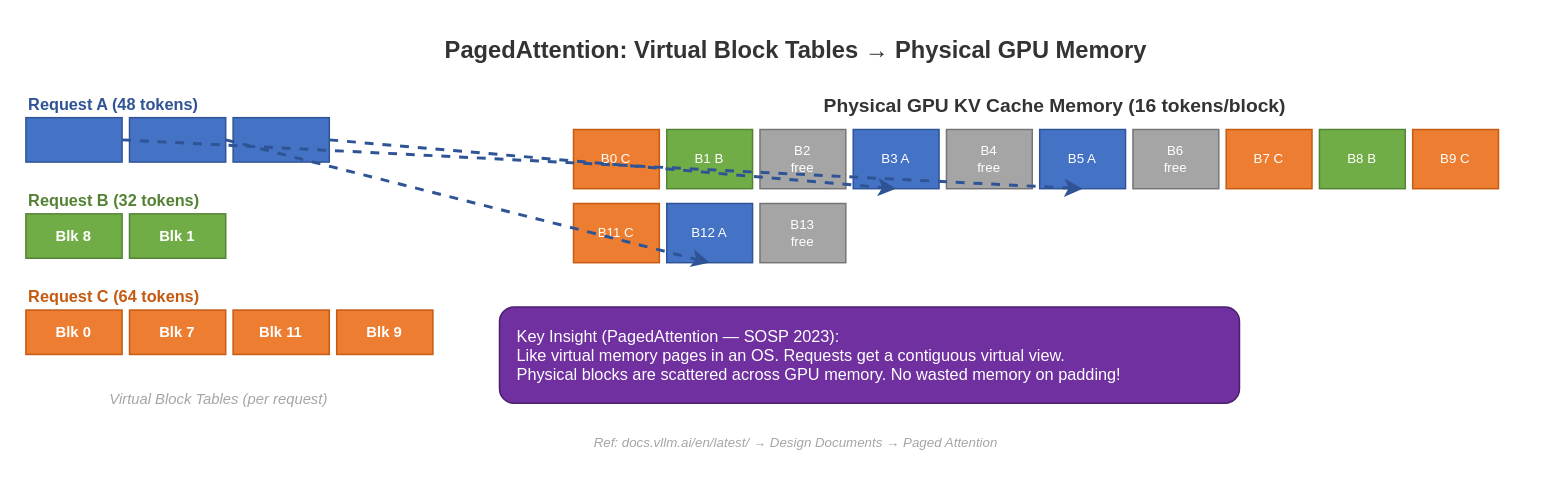
The diagram is 1561 pixels wide and 477 high, and some of its shapes have lost their labels. Each missing label, with the box of its shape:
Blk 12: (128, 116, 226, 162)
Blk 3: (232, 116, 329, 162)
Blk 5: (24, 116, 122, 162)
